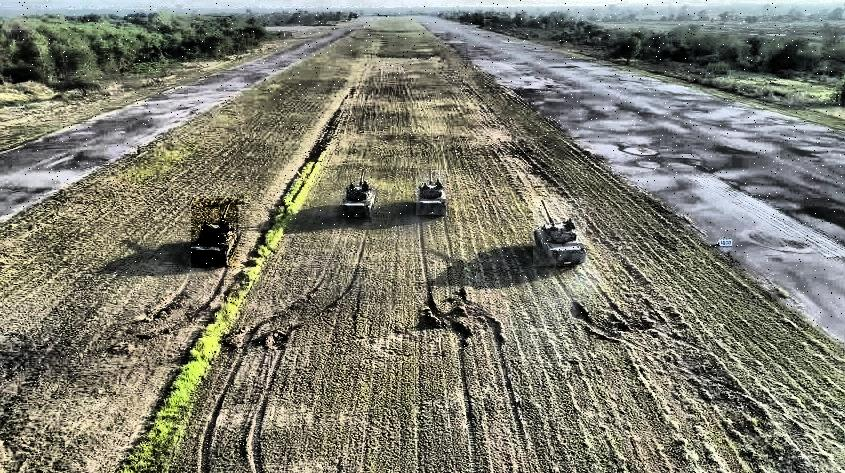military-vehicle: (533, 198, 586, 266), (192, 198, 239, 268), (342, 170, 374, 222), (416, 170, 446, 215)
